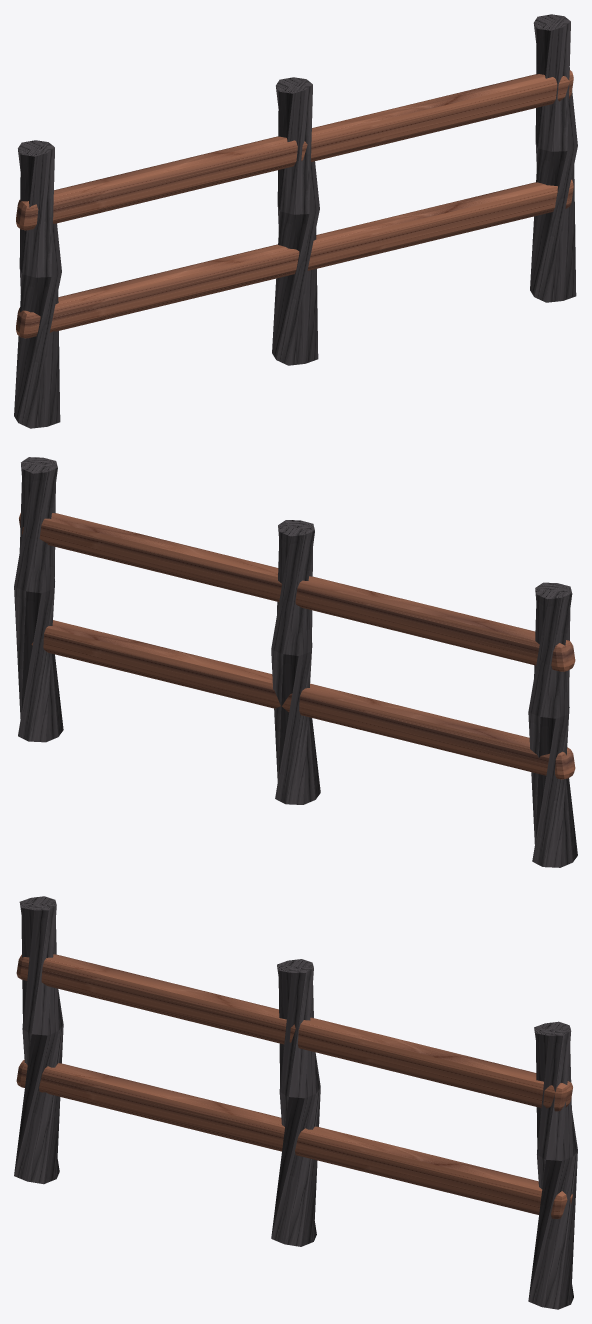
Rendered from Split_Rail_Fence_Barren.glb.
3 renders of one model, top to bottom at view 1: azimuth 30°, elevation 25°; view 2: azimuth 150°, elevation 25°; view 3: azimuth 330°, elevation 25°, orthographic.
Visible parts, largest first — view 1: Structure; view 2: Structure; view 3: Structure.
Part boxes in pixels (box(x1,y1,x2,y2)): Structure: box(14, 14, 577, 428); Structure: box(14, 457, 577, 867); Structure: box(14, 896, 577, 1309).
Size of the model in its own units: 3.23 by 1.51 by 0.221.
Materials: 2 (2 with a texture image).
